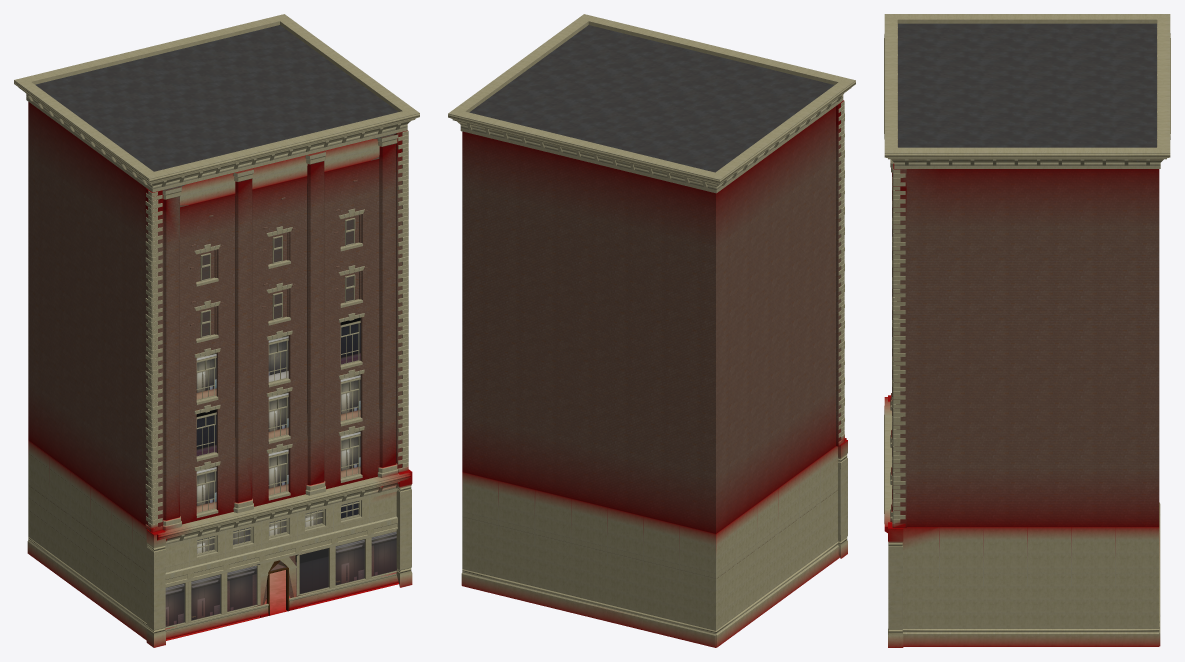
Rendered from building-medium-2-001_lod1.glb.
3 views of the same model, side by side, from view 1: azimuth 30°, elevation 25°; view 2: azimuth 150°, elevation 25°; view 3: azimuth 270°, elevation 25° (orthographic). The views are drawn at different scales.
Bounding box in the file's own units: 15.06 × 25 × 13.06.
8 materials, 7 textured.
